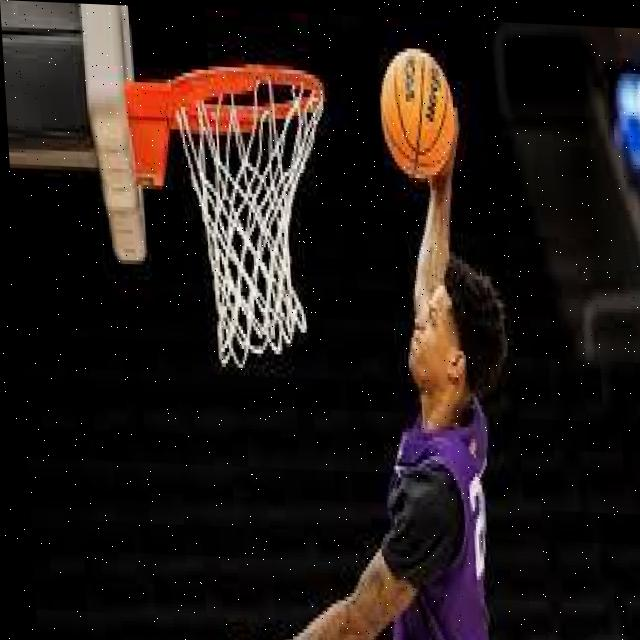basketball: (377, 47, 455, 184)
hoop: (171, 60, 339, 372)
